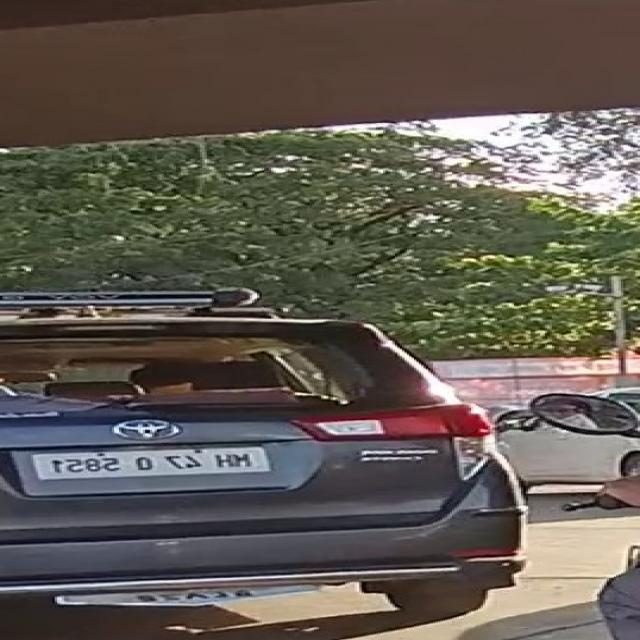license_plate: (26, 441, 272, 483)
